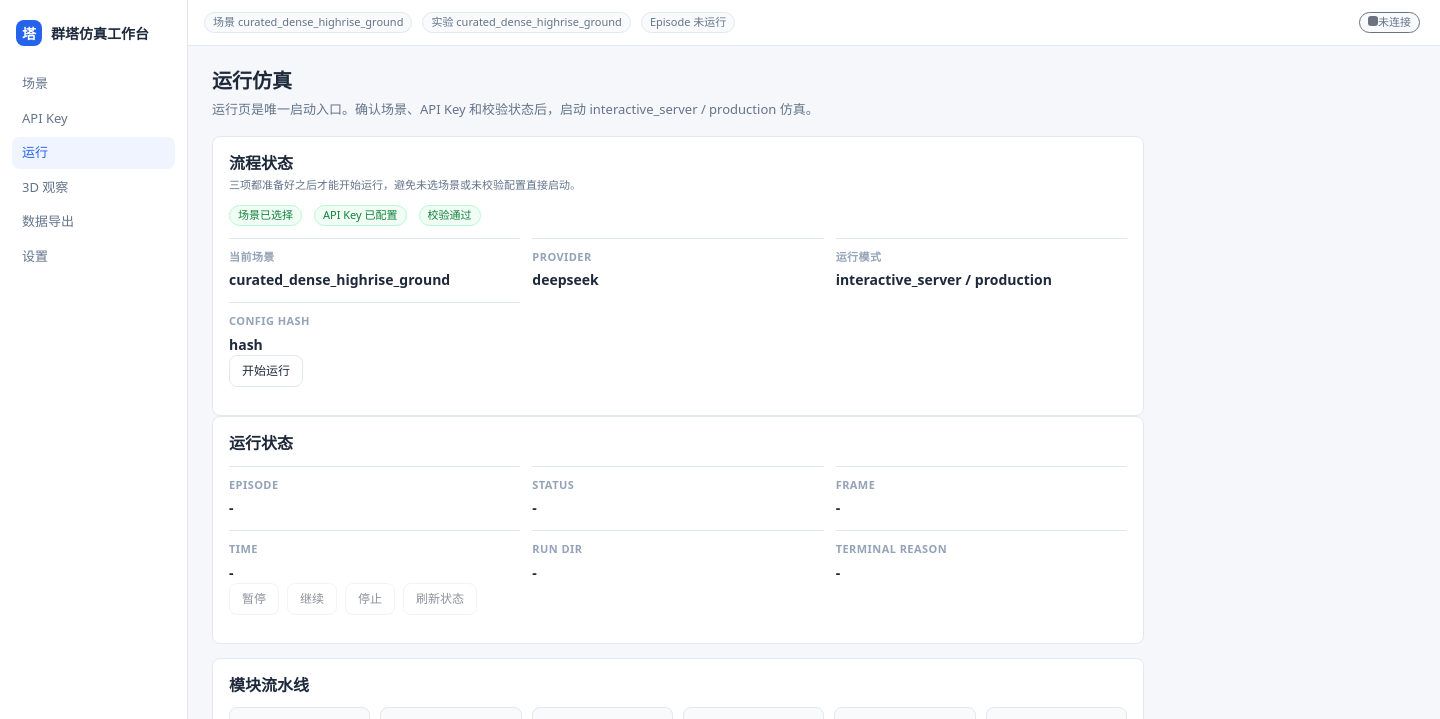
Scenario: workbench run controls › removes inline and environment key fields from the start request
The width and height of the screenshot is (1440, 719).
Expected: the text "API Key 已配置" is shown, [314,205,406,226]
Click the button "开始运行". click: point(266, 371)
box: [229,355,303,387]
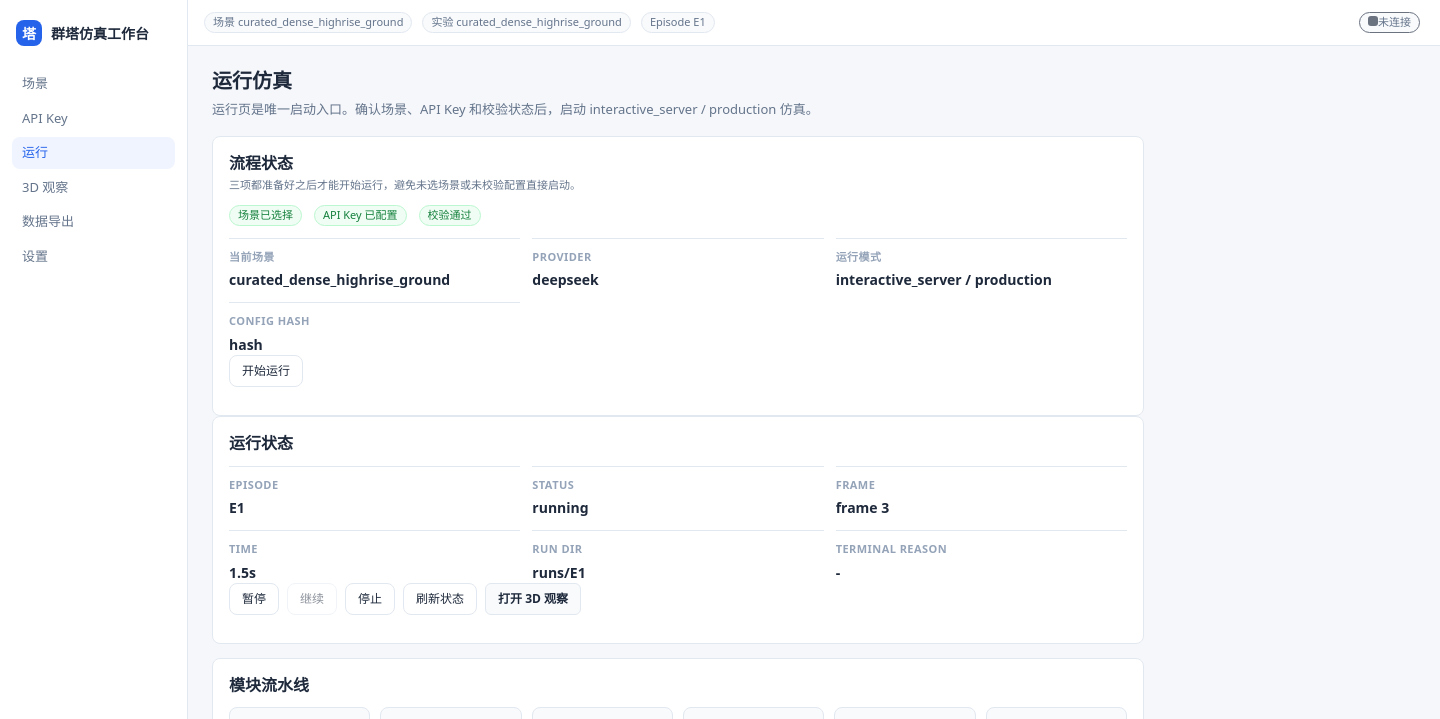
Result: the text "frame 3" is shown at [836,498,889,517]
